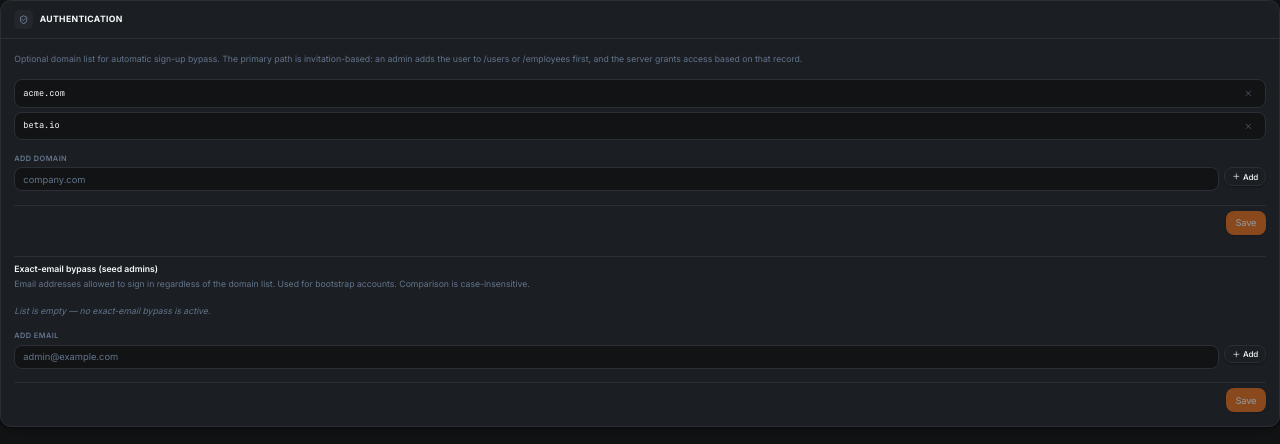
Test: AuthSettingsPanel › removing one of two domains keeps the remaining domain and shows no fail-closed banner
expect the text "acme.com" is shown: met, box [23, 87, 65, 100]
expect the text "beta.io" is shown: met, box [23, 120, 60, 132]
// remove acme.com
Step 1. Click the button named "Remove domain acme.com" → click(1249, 93), box [1241, 85, 1257, 101]
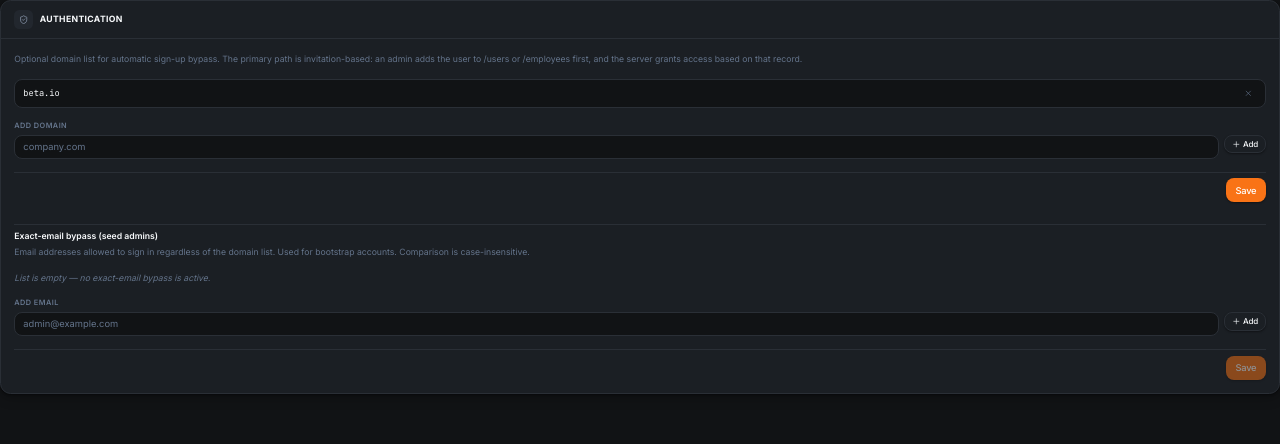
expect the text "beta.io" is shown: met, box [23, 87, 60, 100]
expect the text "acme.com" is gone: met
